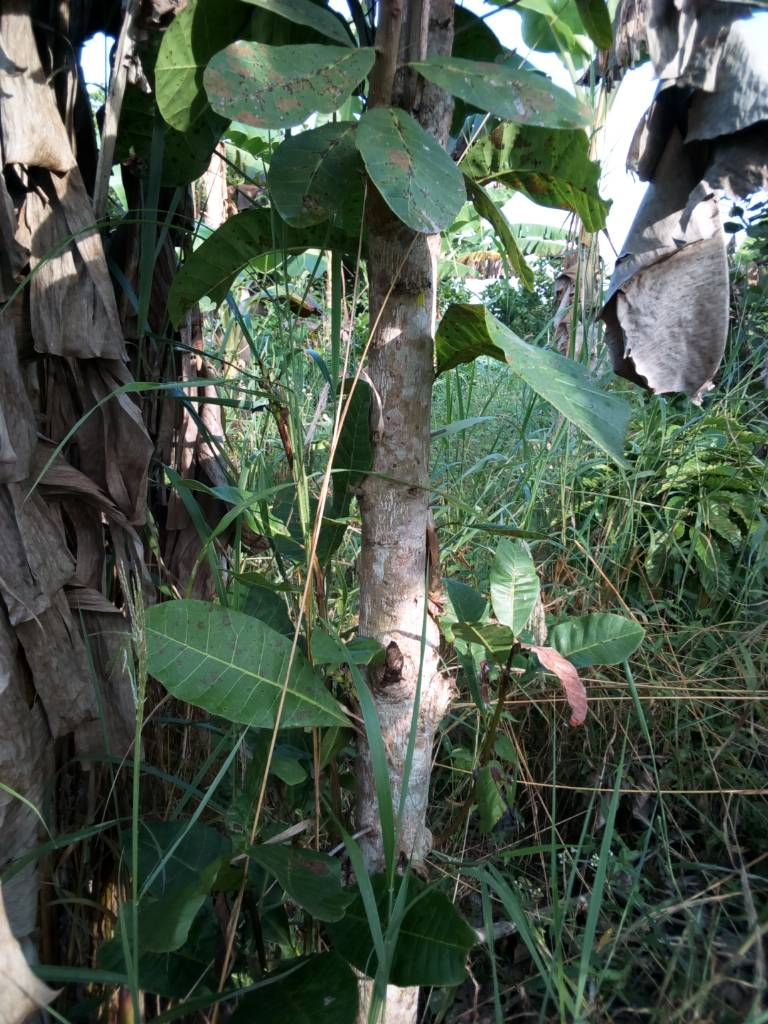Anthracnose: (138, 596, 346, 733), (200, 38, 380, 127), (355, 103, 466, 241), (405, 57, 600, 130)
